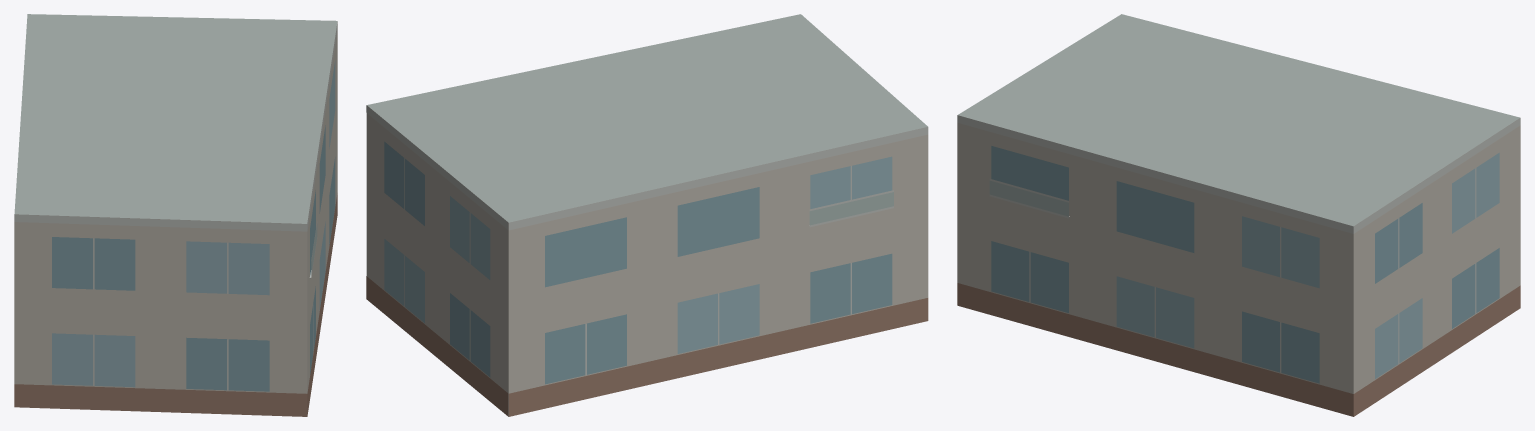
The model's file is survey-upis-32756063.glb.
The picture shows the model from 3 angles, left to right: view 1: azimuth 30°, elevation 25°; view 2: azimuth 150°, elevation 25°; view 3: azimuth 270°, elevation 25°; orthographic projection.
Visible parts, largest first — view 1: survey-upis-32756063.tmp; view 2: survey-upis-32756063.tmp; view 3: survey-upis-32756063.tmp.
Boxes of the visible parts, x1=… form: survey-upis-32756063.tmp: x1=14, y1=14, x2=337, y2=416; survey-upis-32756063.tmp: x1=366, y1=14, x2=928, y2=416; survey-upis-32756063.tmp: x1=957, y1=14, x2=1520, y2=416.
Bounding box in the file's own units: 14.59 × 6.1 × 16.35.
